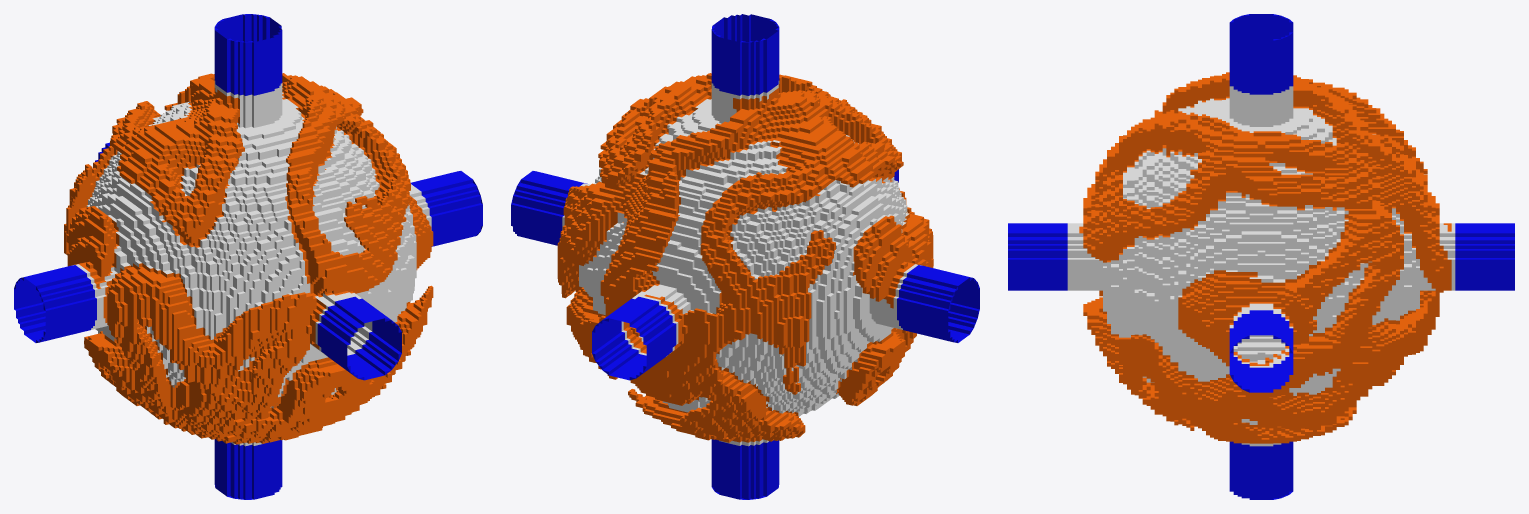
The model's file is Mine.obj.
3 views of the same model, side by side, from view 1: azimuth 30°, elevation 25°; view 2: azimuth 150°, elevation 25°; view 3: azimuth 270°, elevation 25° (orthographic).
Size of the model in its own units: 12.8 by 12.8 by 12.8.
